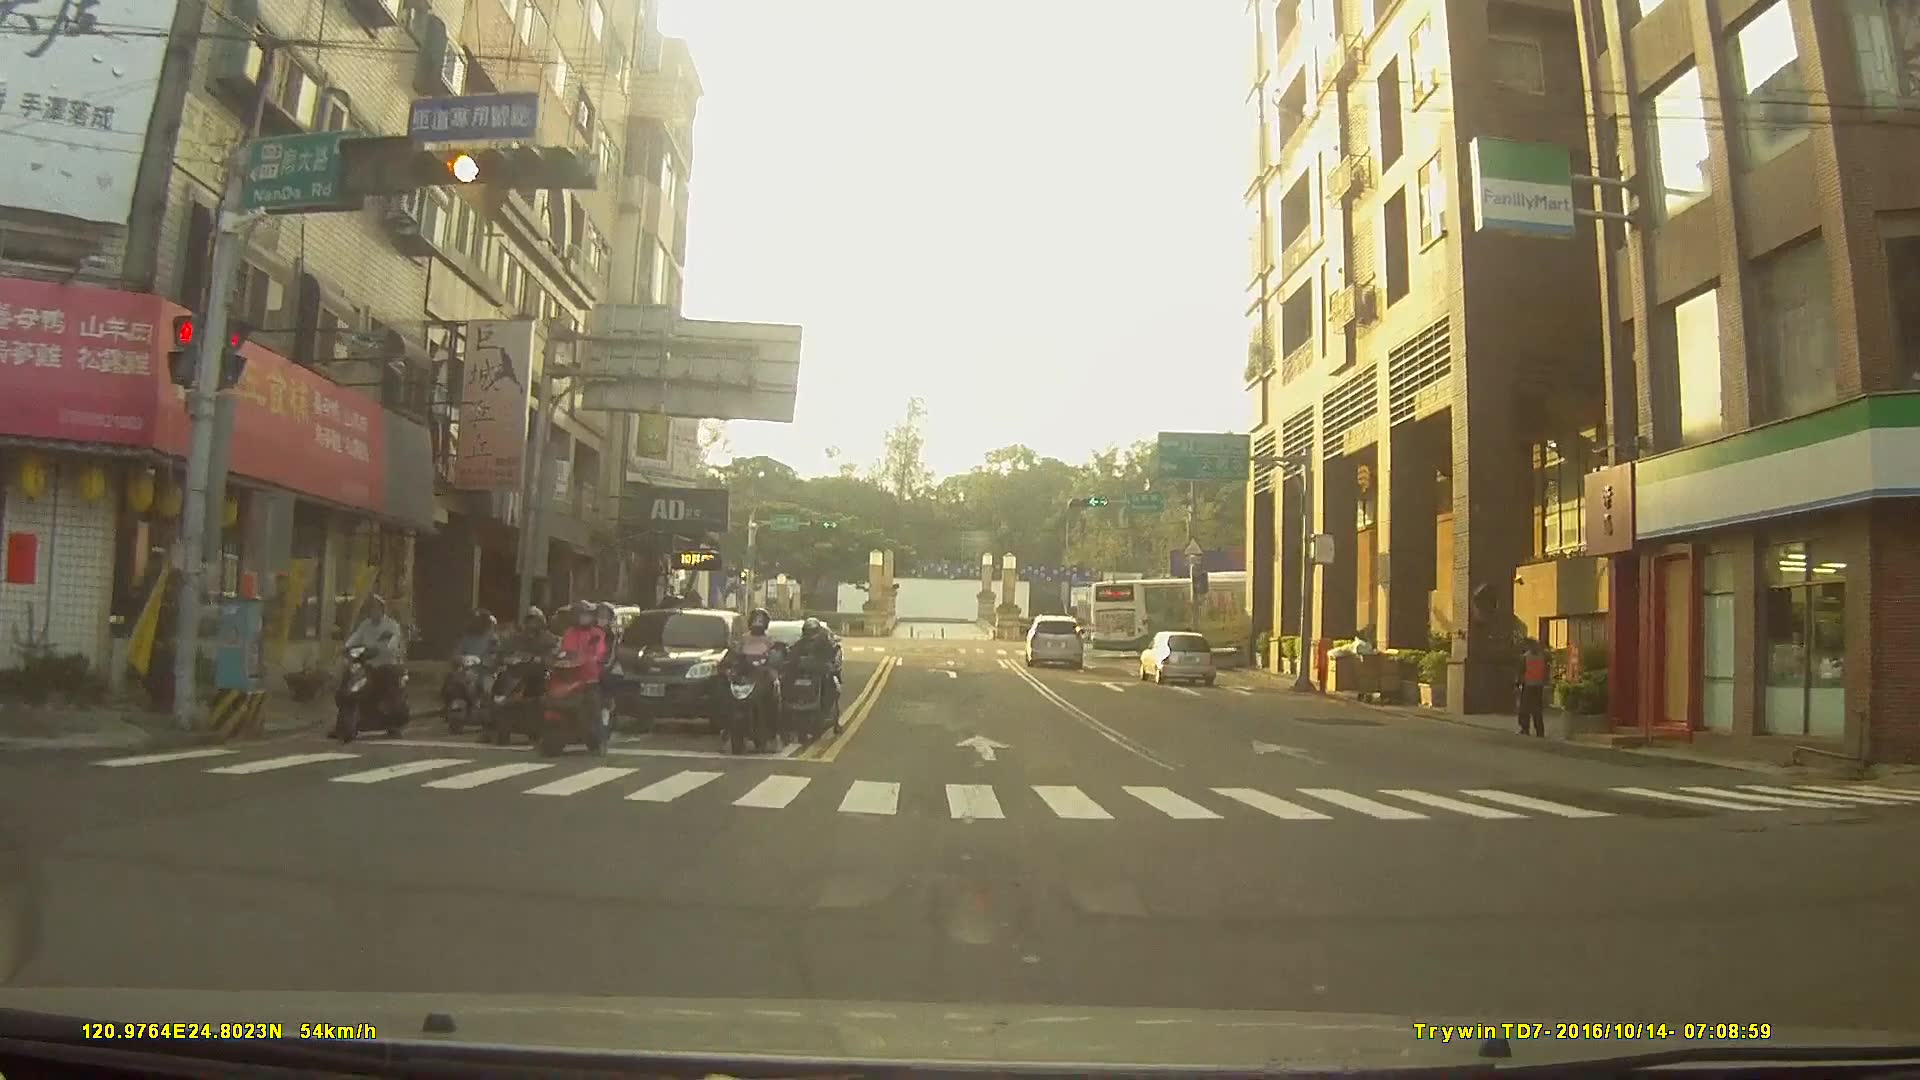pedestrian: (1507, 638, 1559, 746)
rider: (531, 597, 621, 759), (335, 595, 413, 744), (482, 596, 559, 743), (722, 609, 789, 751), (442, 606, 509, 731), (775, 617, 838, 746)
vehicle: (595, 602, 752, 728), (1088, 565, 1290, 660), (1136, 629, 1216, 685), (1022, 610, 1083, 663)
